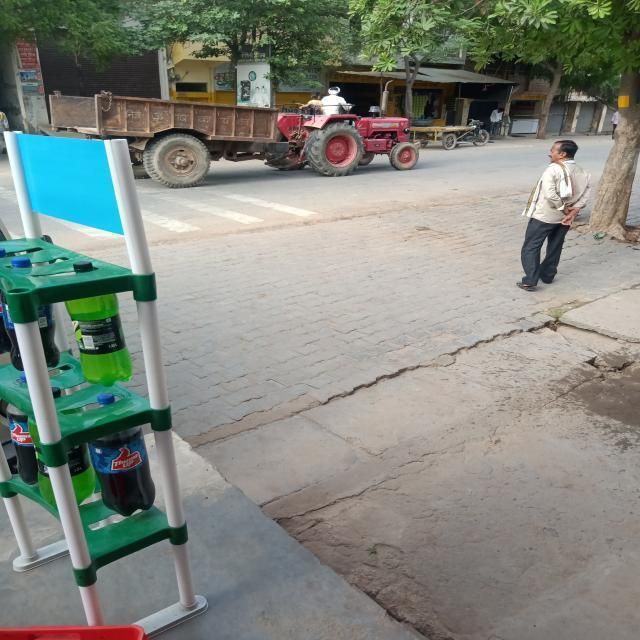tractor_back: (40, 86, 428, 185)
